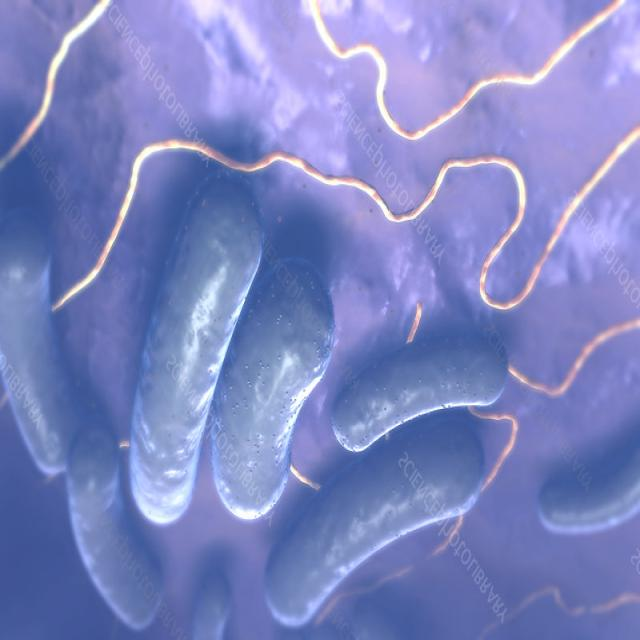Amoeba: (127, 175, 265, 528), (262, 415, 486, 630), (208, 252, 335, 523)
Rod_bacteria: (1, 4, 636, 636)
